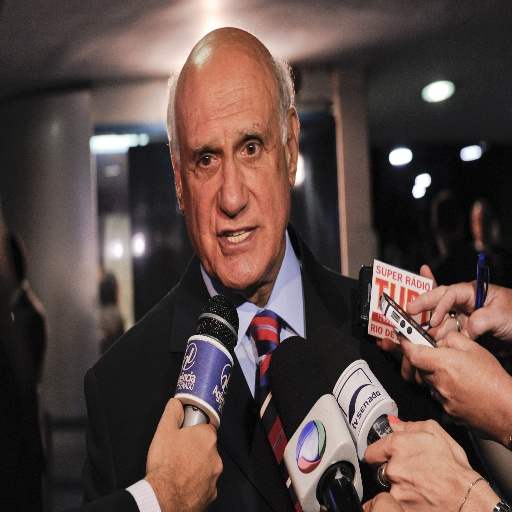hand: (423, 305, 508, 449), (364, 413, 476, 511), (376, 263, 459, 387), (144, 395, 223, 511), (405, 277, 511, 341), (360, 490, 403, 511)
